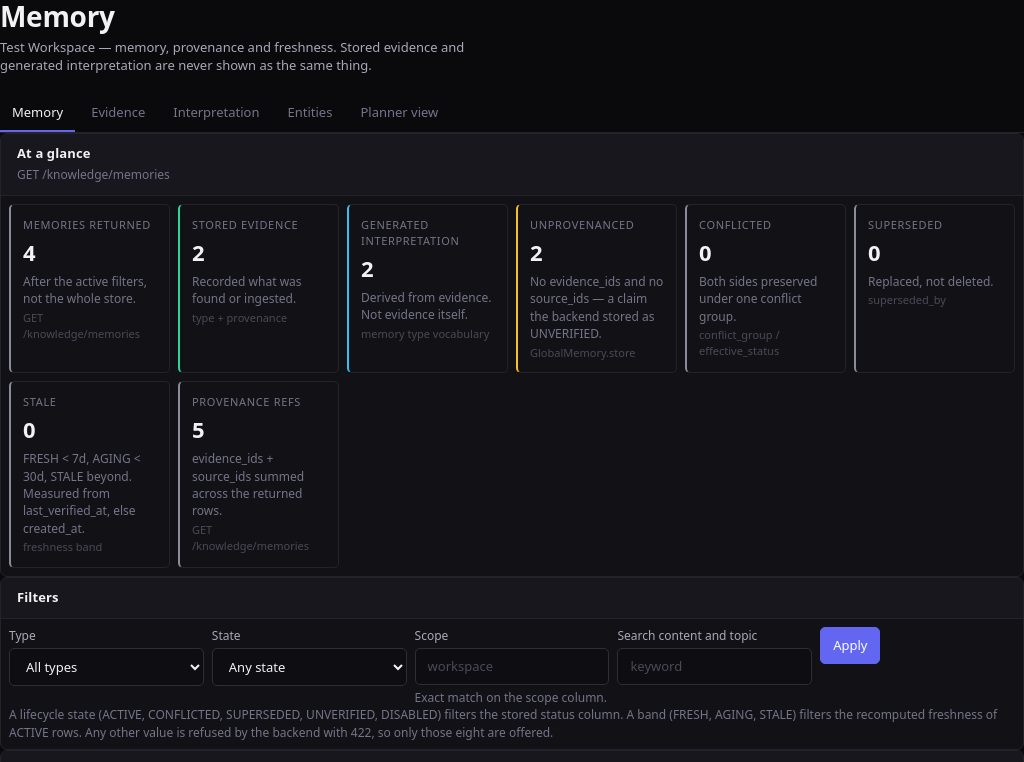
Test: Memory renders when data arrives › shows related entities and their edges
The image size is (1024, 762).
Click the tab "Entities". click: (310, 114)
box: [276, 95, 344, 132]
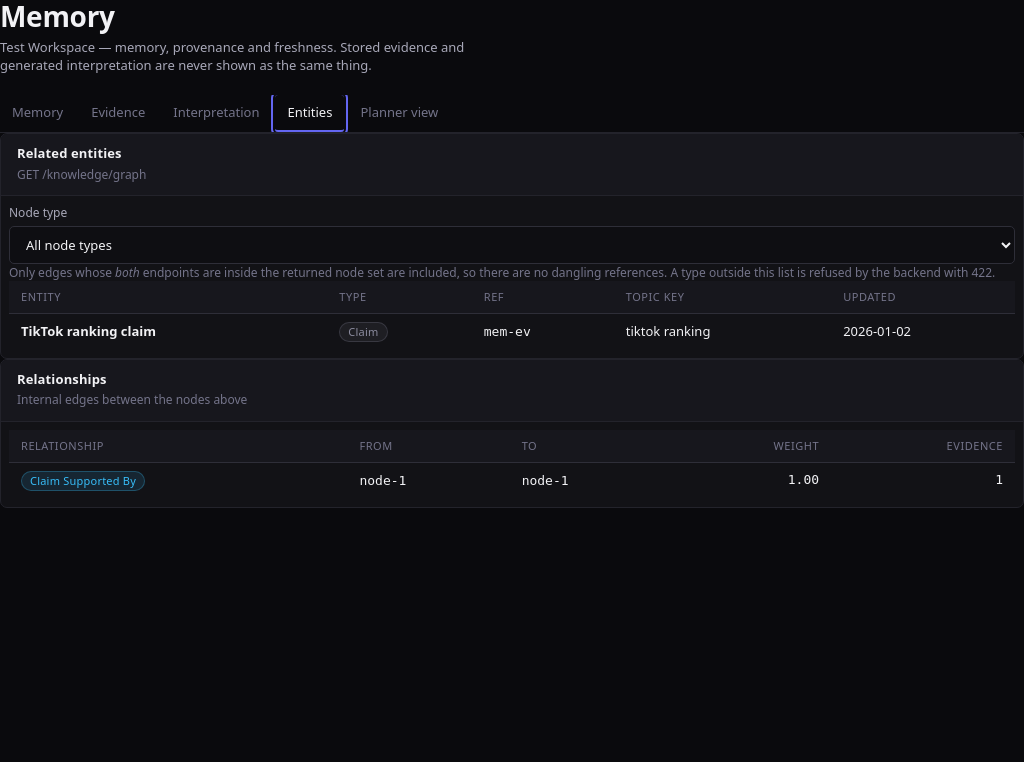
Result: the text "TikTok ranking claim" is shown at [21, 322, 156, 340]
Result: the text "Claim Supported By" is shown at [21, 471, 145, 491]
